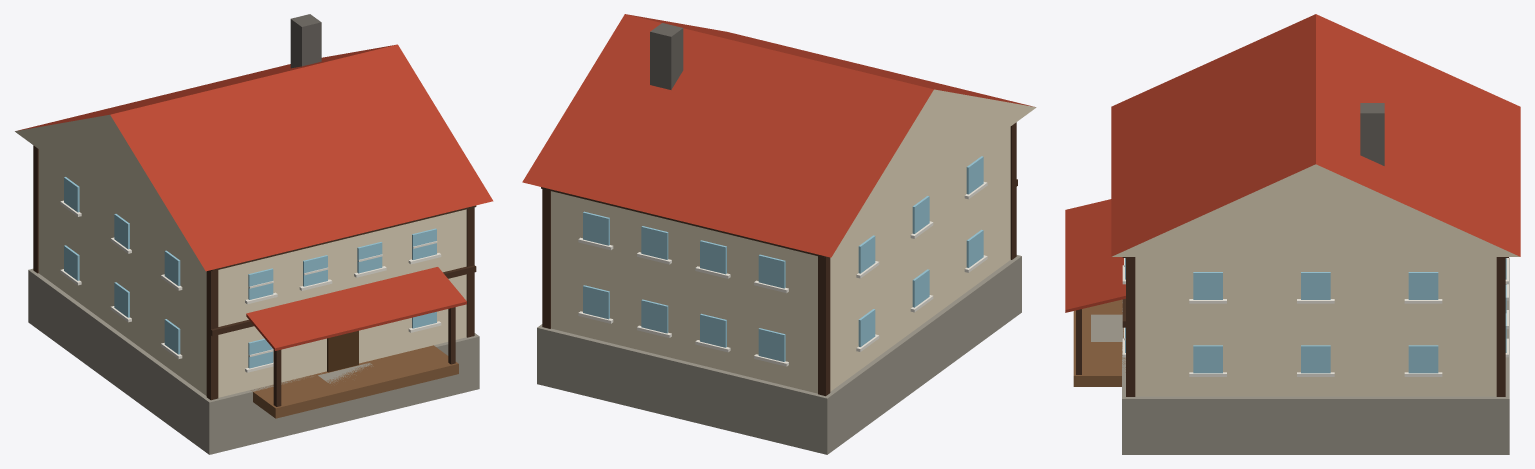
Rendered from farmhouse.glb.
3 views of the same model, side by side, from view 1: azimuth 30°, elevation 25°; view 2: azimuth 150°, elevation 25°; view 3: azimuth 270°, elevation 25° (orthographic). The views are drawn at different scales.
Visible parts, largest first — view 1: farmhouse-col; view 2: farmhouse-col; view 3: farmhouse-col.
Part boxes in pixels (bbox=[...]): farmhouse-col: bbox=[15, 14, 493, 454]; farmhouse-col: bbox=[522, 14, 1036, 454]; farmhouse-col: bbox=[1065, 14, 1520, 454].
Bounding box in the file's own units: 13.2 × 13 × 16.9.
